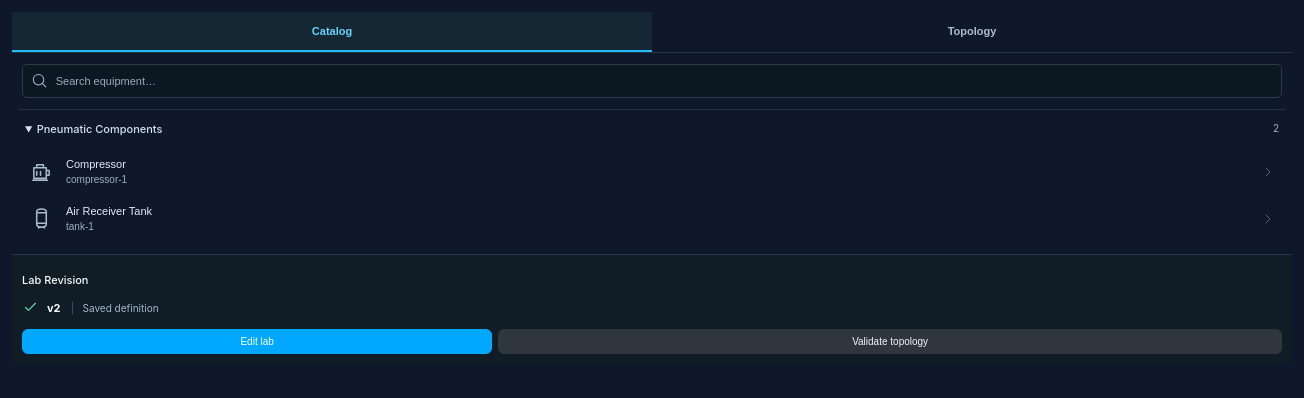
Scenario: EquipmentCatalog › validates the current revision and displays the actual result
This screenshot has width=1304, height=398.
Click the button "Validate topology" at (890, 342), box [498,329,1282,354]
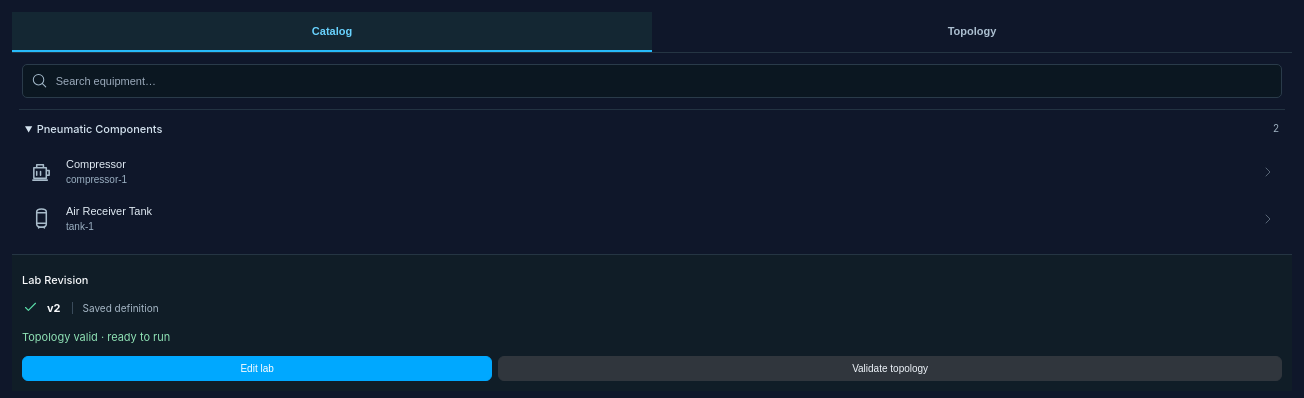
Check: the text "Topology valid · ready to run" is shown, box [22,330,170,344]
